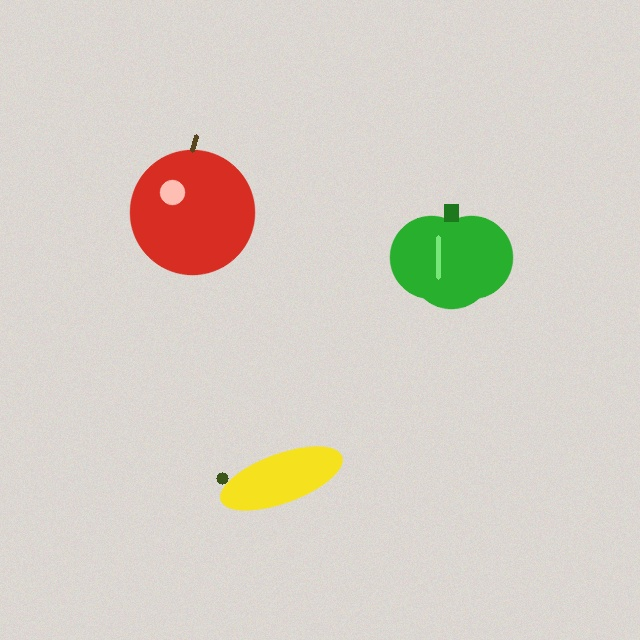Fresh apple: (130, 136, 254, 274)
Fresh banana: (214, 448, 348, 508)
Fresh bell pepper: (390, 204, 512, 308)
